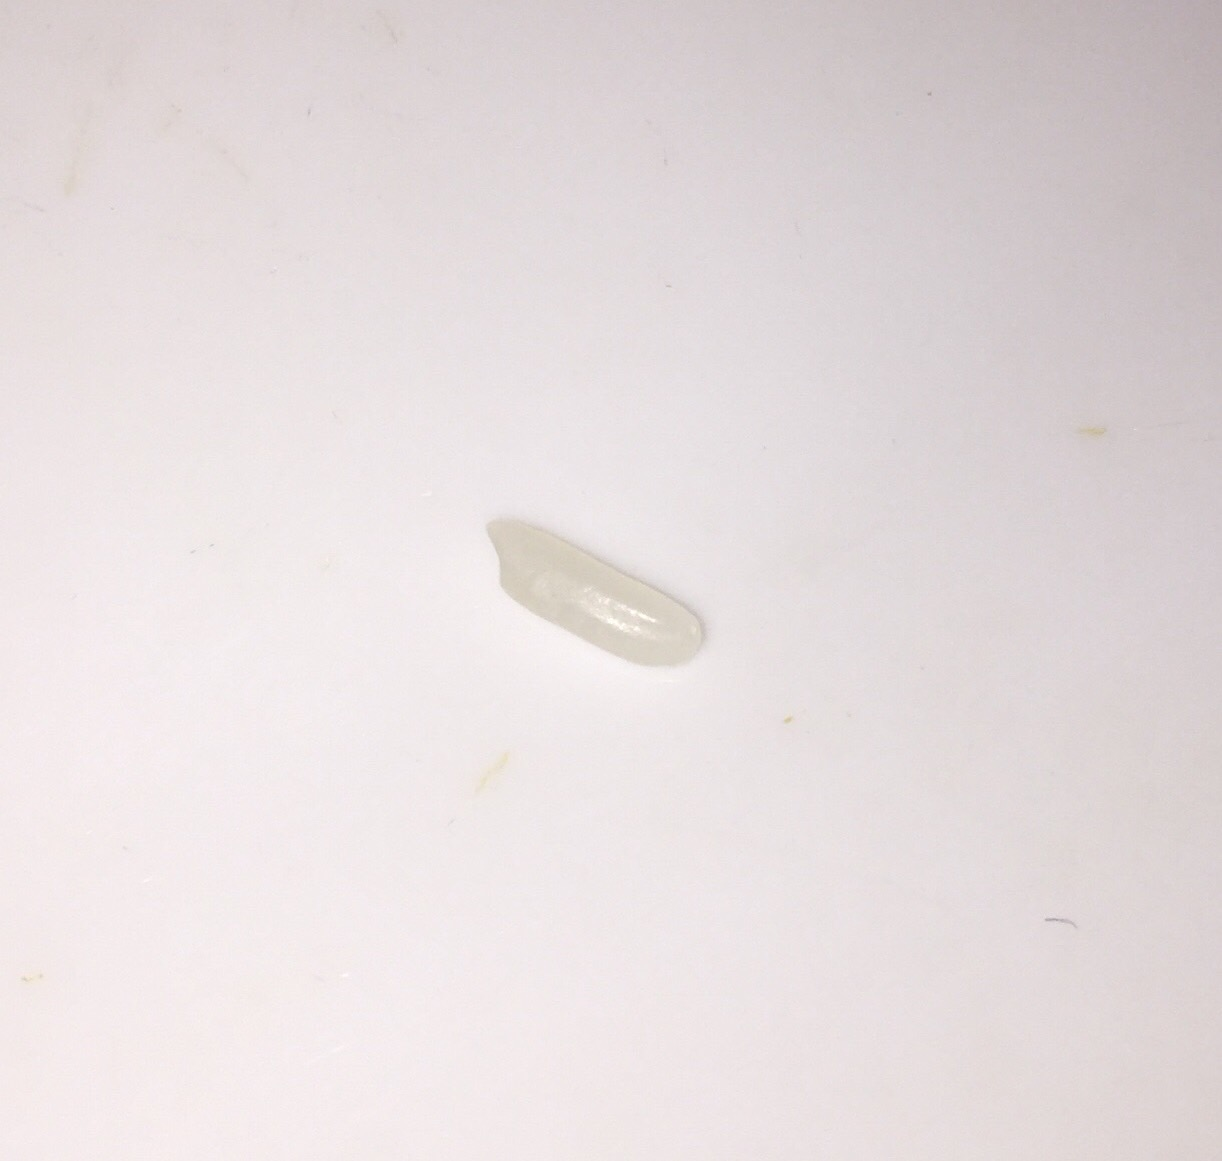Gao Ngoc Troi: (483, 498, 712, 673)
